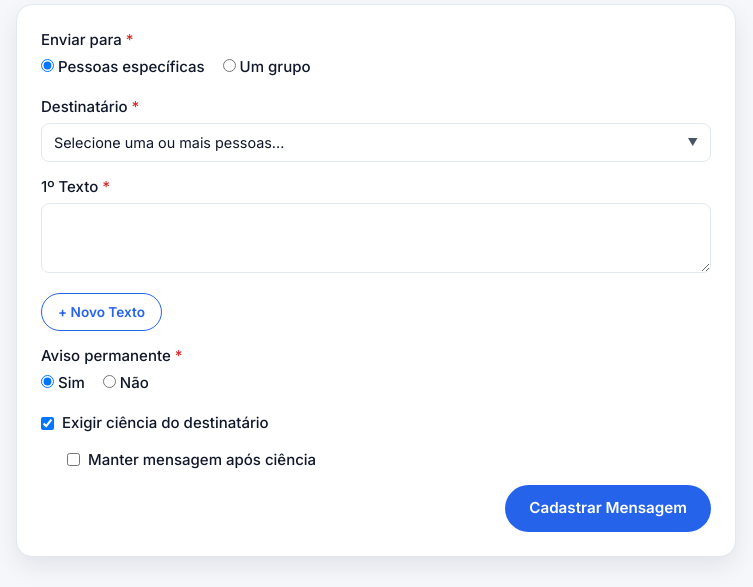
AvisoPessoalFormComponent › o botão e o "manter" nomeiam a categoria do destinatário: Mensagem para pessoas, Comunicado para grupo
Expected: the button "Cadastrar Mensagem" is shown, left=505, top=485, right=711, bottom=532
Click the radio button named "modo".
click(229, 65)  # box left=223, top=58, right=236, bottom=72
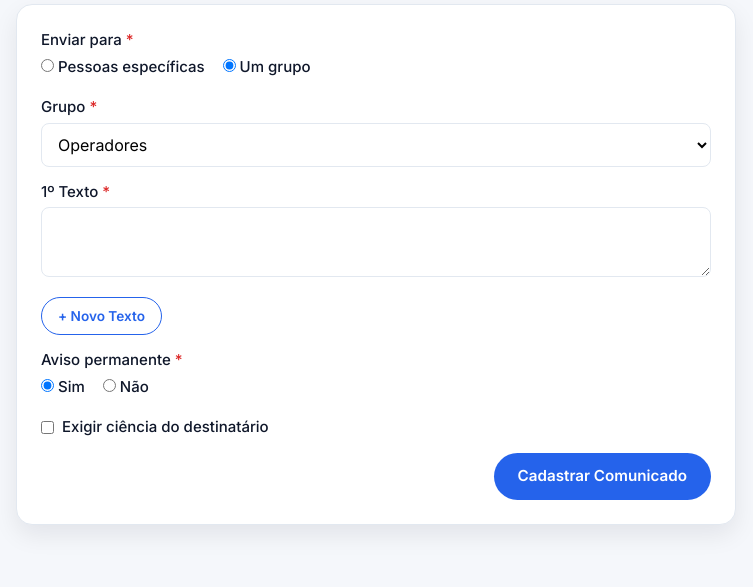
Click the checkbox named "ciencia".
click(48, 428)  # box left=41, top=421, right=54, bottom=434
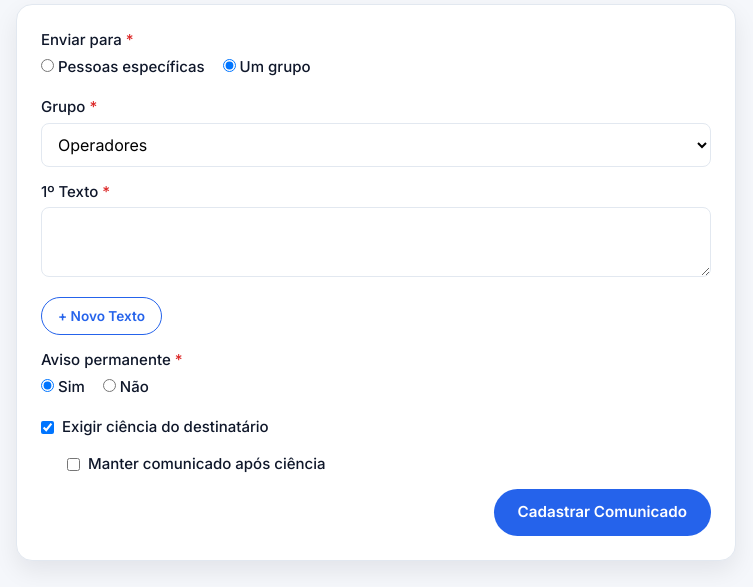
Expected: the button "Cadastrar Comunicado" is shown, left=494, top=489, right=711, bottom=536
Expected: the label with class "check-sub" reads "Manter comunicado após ciência", left=88, top=454, right=326, bottom=473
